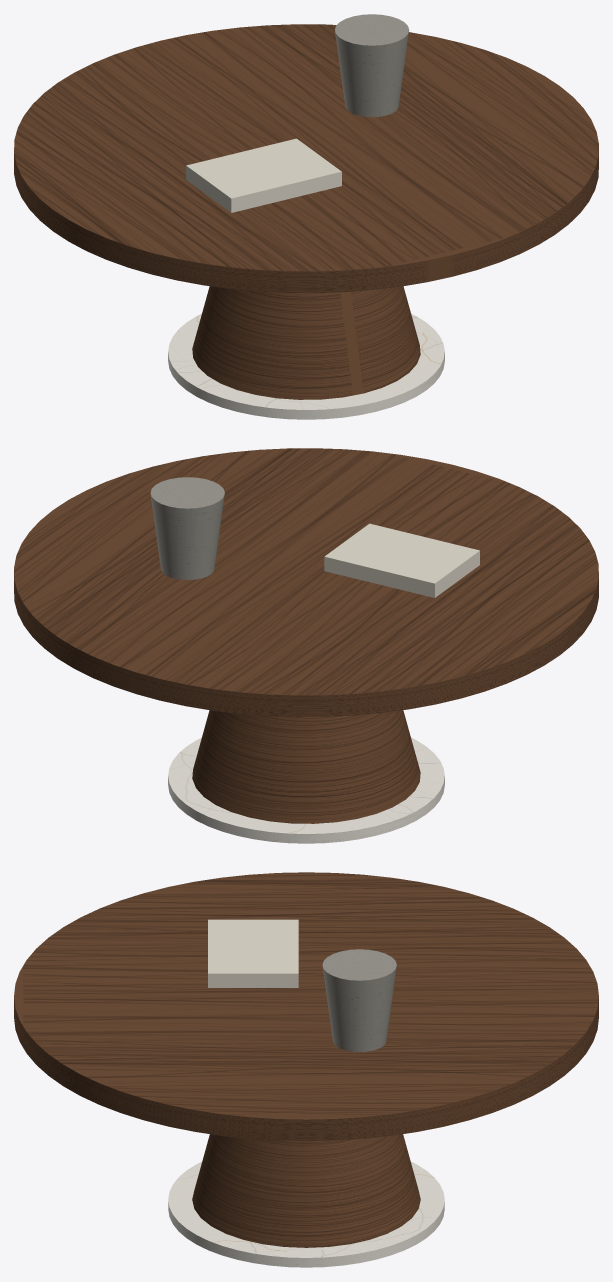
File: noi-that-ban-tra.glb
The picture shows the model from 3 angles, top to bottom: view 1: azimuth 30°, elevation 25°; view 2: azimuth 150°, elevation 25°; view 3: azimuth 270°, elevation 25°; orthographic projection.
Size of the model in its own units: 1.1 by 0.6 by 1.1.
Materials: 4 (3 with a texture image).
